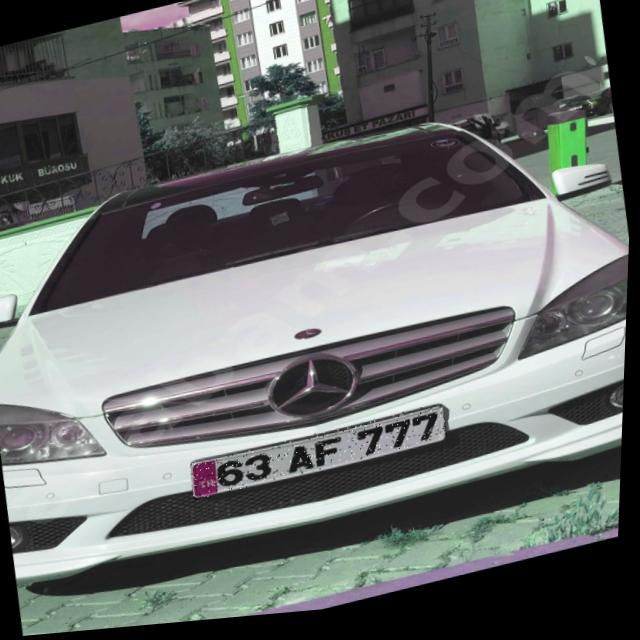license_plate: (192, 410, 452, 505)
